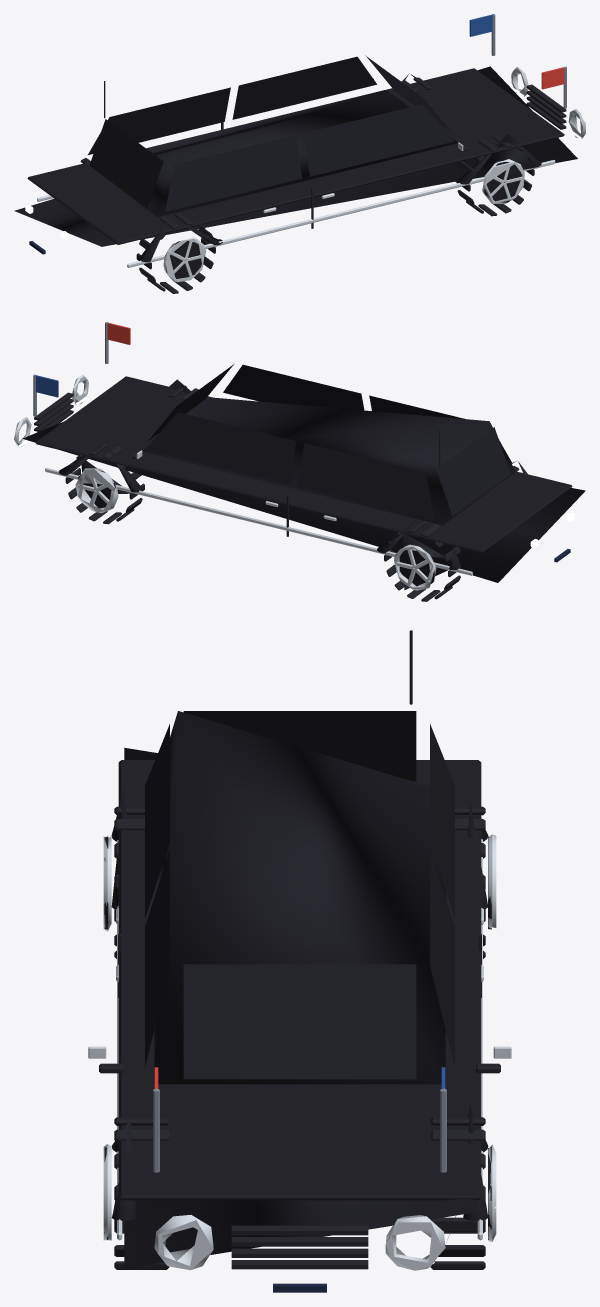
Rendered from mayor_limo.glb.
3 views of the same model, one above another, from view 1: azimuth 30°, elevation 25°; view 2: azimuth 150°, elevation 25°; view 3: azimuth 270°, elevation 25° (orthographic). The views are drawn at different scales.
Visible parts, largest first — view 1: mayor_limo; view 2: mayor_limo; view 3: mayor_limo.
Part boxes in pixels (x1=…): mayor_limo: x1=14, y1=14, x2=585, y2=293; mayor_limo: x1=14, y1=322, x2=585, y2=601; mayor_limo: x1=88, y1=630, x2=511, y2=1292.
Bounding box in the file's own units: 6.68 × 1.94 × 2.36.
1 material, 1 textured.
